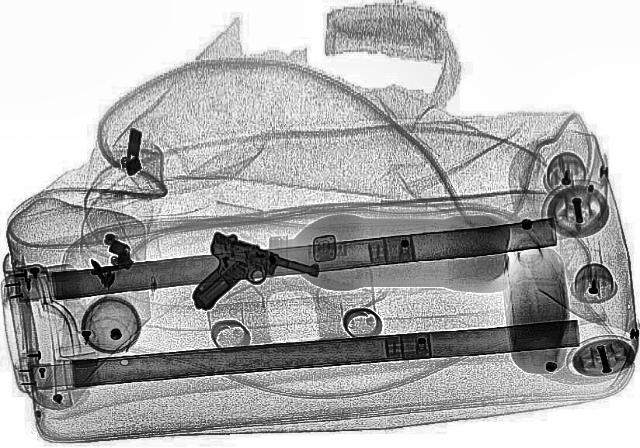Gun: (178, 232, 329, 326)
